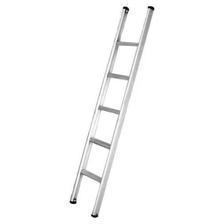Feet: (12, 79, 197, 155)
